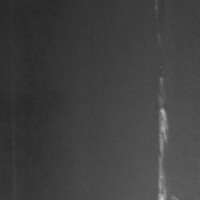scratches: (154, 76, 172, 200)
